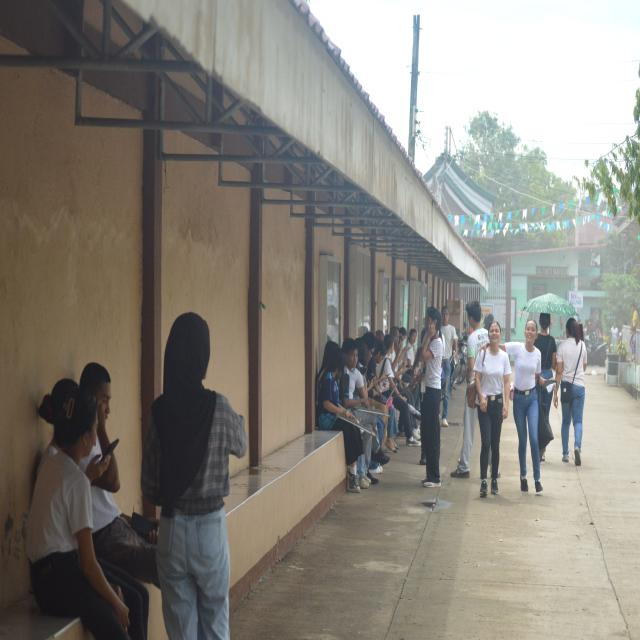person: (141, 313, 247, 639), (27, 387, 148, 639), (500, 320, 542, 492), (317, 349, 363, 492), (475, 321, 510, 496), (415, 307, 443, 487), (554, 318, 587, 465), (441, 306, 457, 427), (466, 301, 488, 384), (535, 313, 556, 379), (610, 321, 618, 350)
